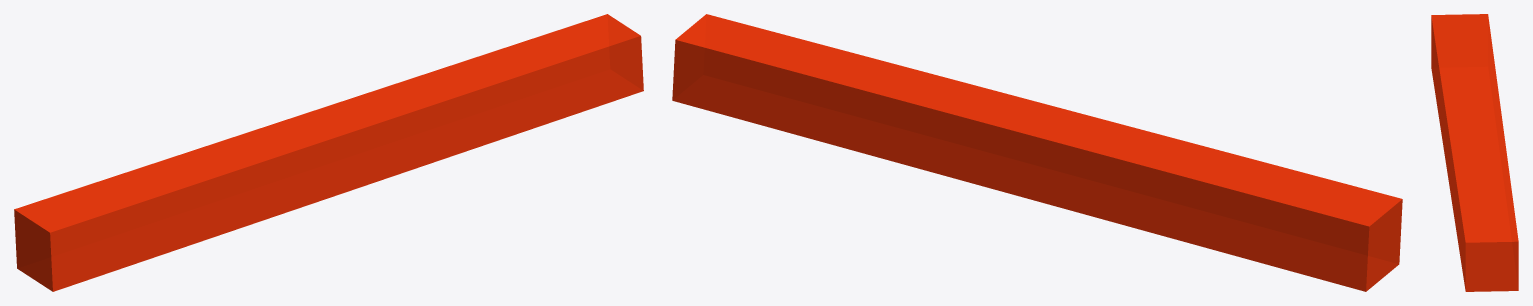
Rendered from Event_421127236_EErechit_23.fbx.
3 renders of one model, left to right at view 1: azimuth 30°, elevation 25°; view 2: azimuth 150°, elevation 25°; view 3: azimuth 270°, elevation 25°, orthographic. The views are drawn at different scales.
Parts seen in each view (by area): view 1: Model; view 2: Model; view 3: Model.
Part boxes in pixels (x1,y1,x2,y2): Model: (14, 14, 643, 291); Model: (672, 14, 1402, 291); Model: (1431, 14, 1518, 291).
Bounding box in the file's own units: 0.8361 × 0.1209 × 0.1195.
